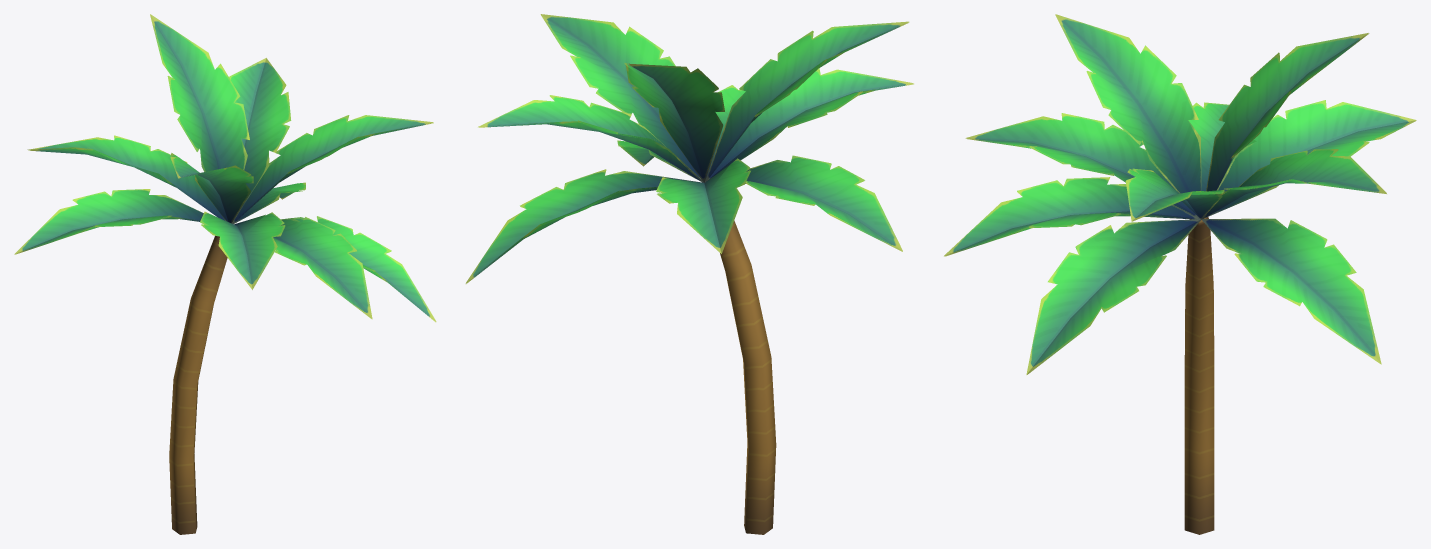
File: palm_tree.fbx
3 views of the same model, side by side, from view 1: azimuth 30°, elevation 25°; view 2: azimuth 150°, elevation 25°; view 3: azimuth 270°, elevation 25° (orthographic). The views are drawn at different scales.
Visible parts, largest first — view 1: polySurface14; view 2: polySurface14; view 3: polySurface14.
Boxes of the visible parts, x1=… form: polySurface14: x1=14, y1=14, x2=436, y2=534; polySurface14: x1=465, y1=14, x2=913, y2=534; polySurface14: x1=944, y1=14, x2=1416, y2=534.
Bounding box in the file's own units: 8.95 × 10.48 × 8.69.
